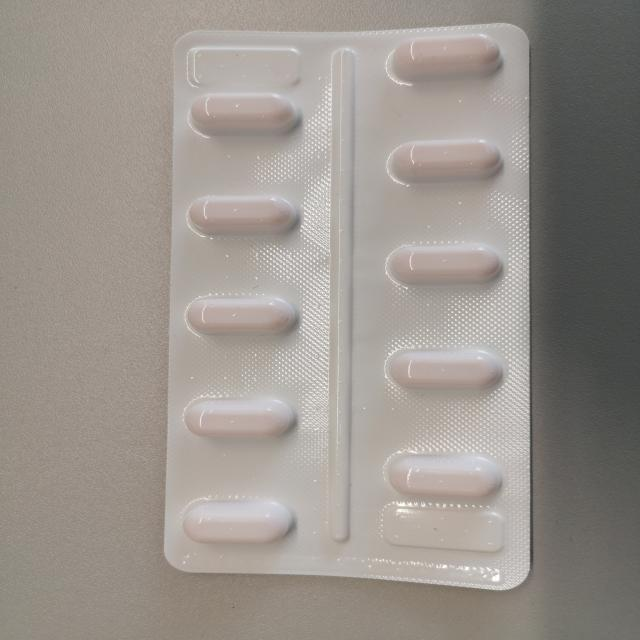Pill: (370, 445, 518, 508), (368, 236, 514, 295), (370, 340, 520, 397), (174, 286, 314, 344), (374, 134, 518, 190), (376, 32, 514, 89), (170, 492, 310, 548), (174, 189, 314, 245), (170, 388, 307, 444), (178, 87, 312, 144)
